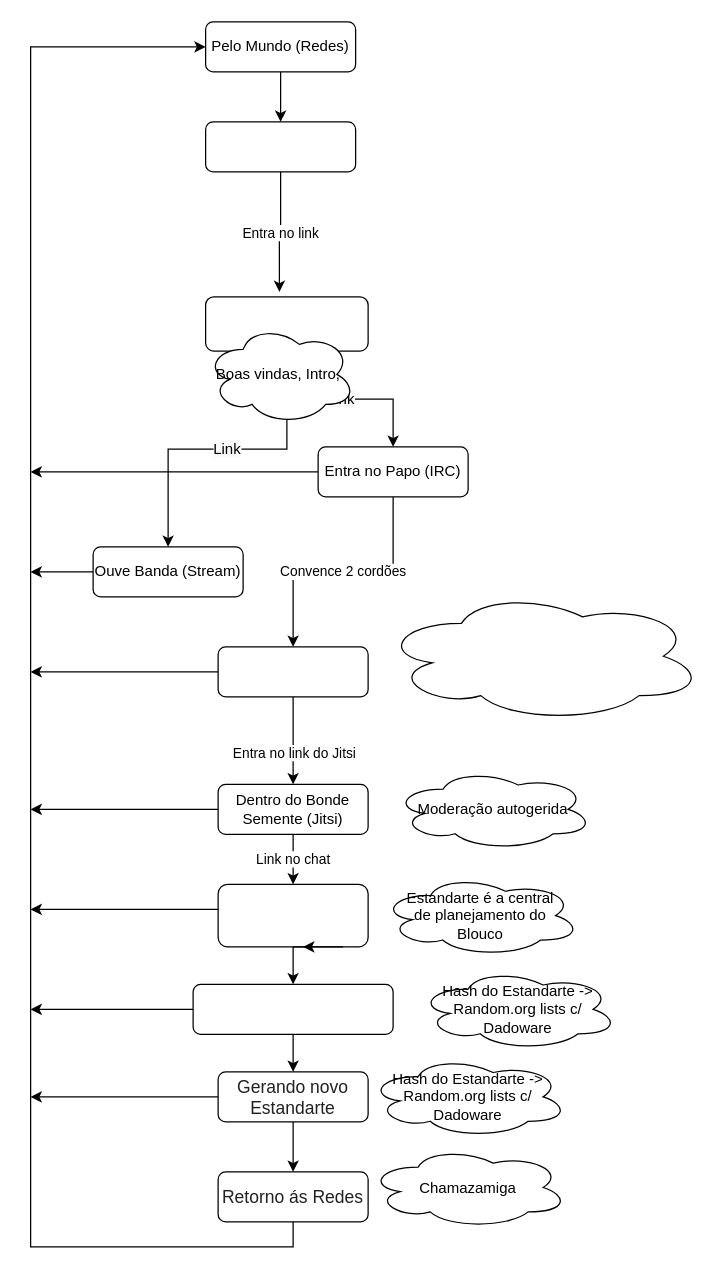
Some shapes in this 726 by 1279 pixel diagram are drawn without their labels. The box of each missing label's shape, as (x1, y1, x2, y2) in pixels:
Abre Cordão (Pad RO): (204, 296, 368, 351)
Canal separado para questões de ordem e pedidos de entrada para Desfile: (379, 589, 704, 722)
Link Divulgado: (204, 121, 356, 172)
Sendo Estandarte (OP + Pad RW): (192, 983, 393, 1034)
Torna-se Cordão (IRC): (217, 646, 368, 697)
Vendo o Estandarte (Pad RO): (217, 883, 368, 947)
